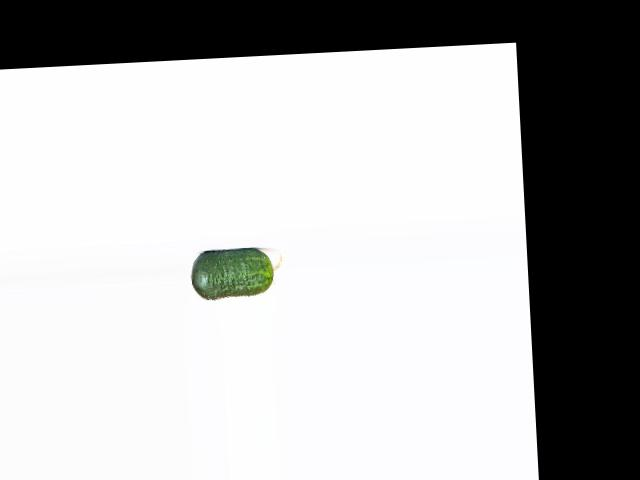cucumber: (190, 245, 284, 301)
